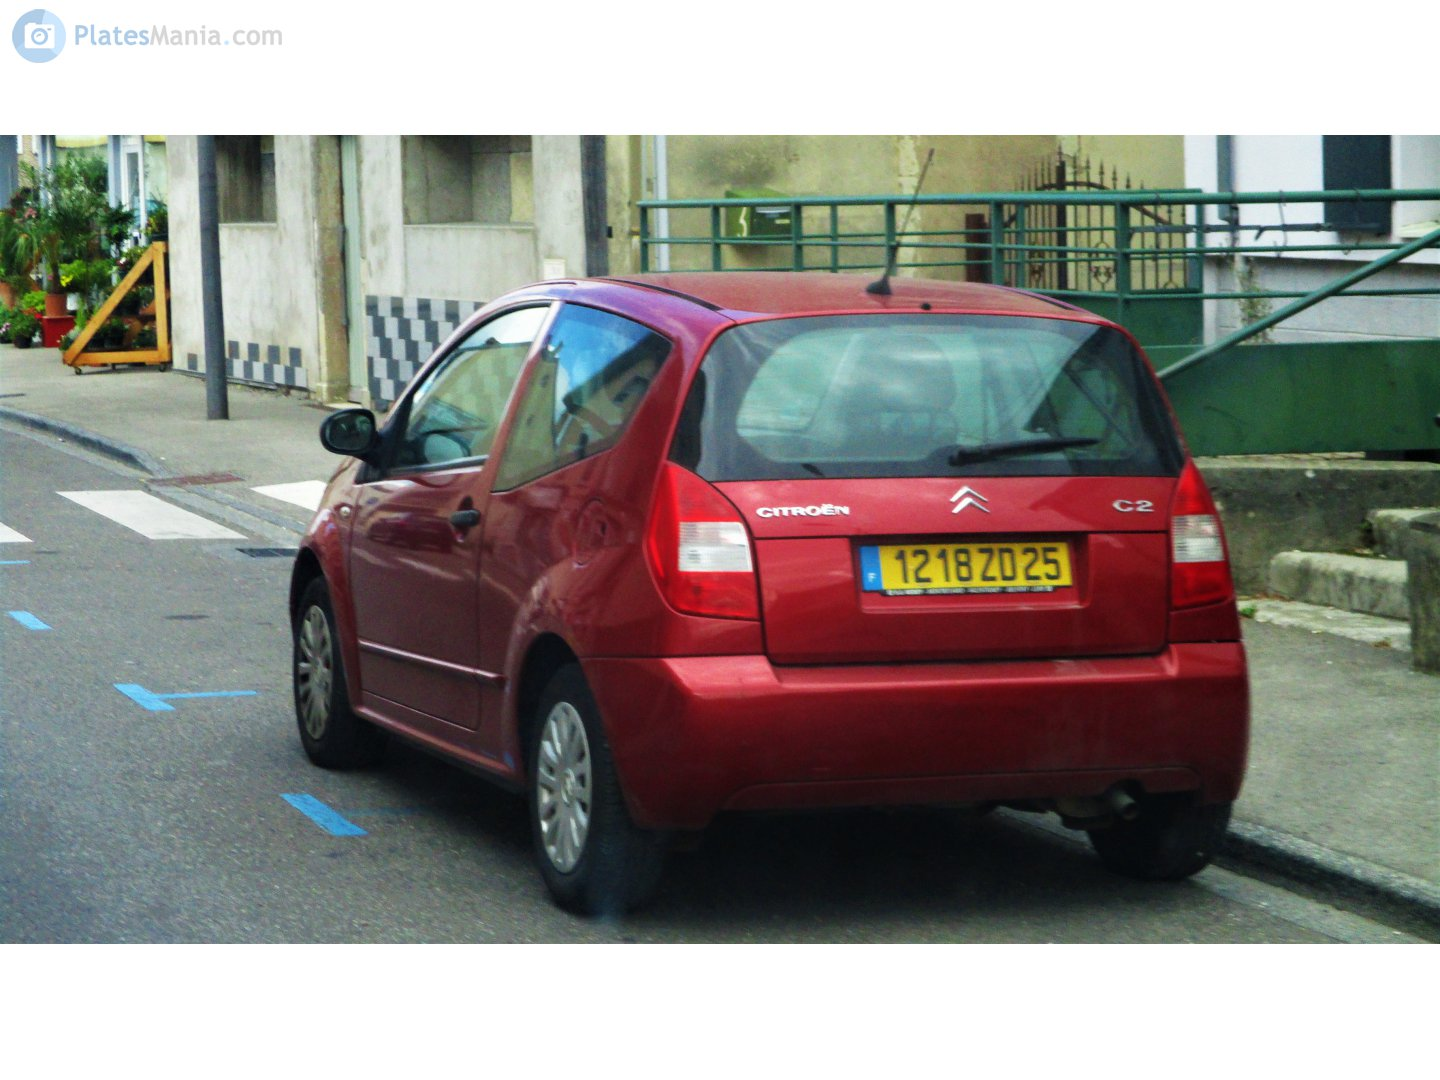licence plate: (857, 539, 1078, 597)
